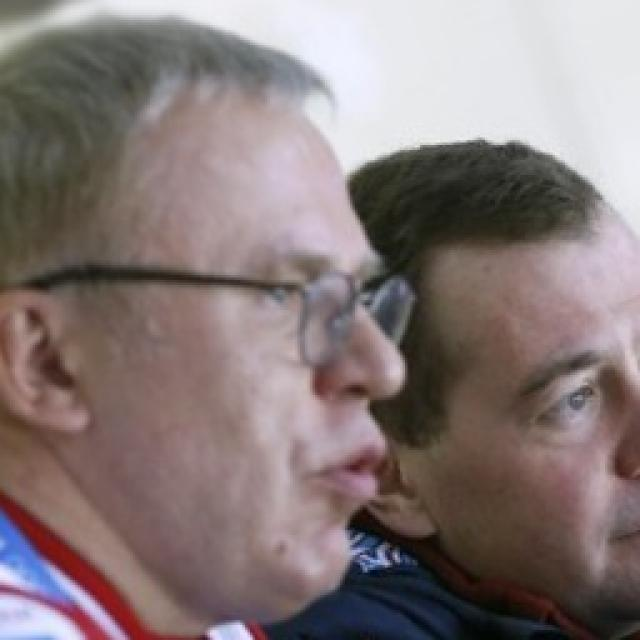glasses: (262, 254, 422, 374)
